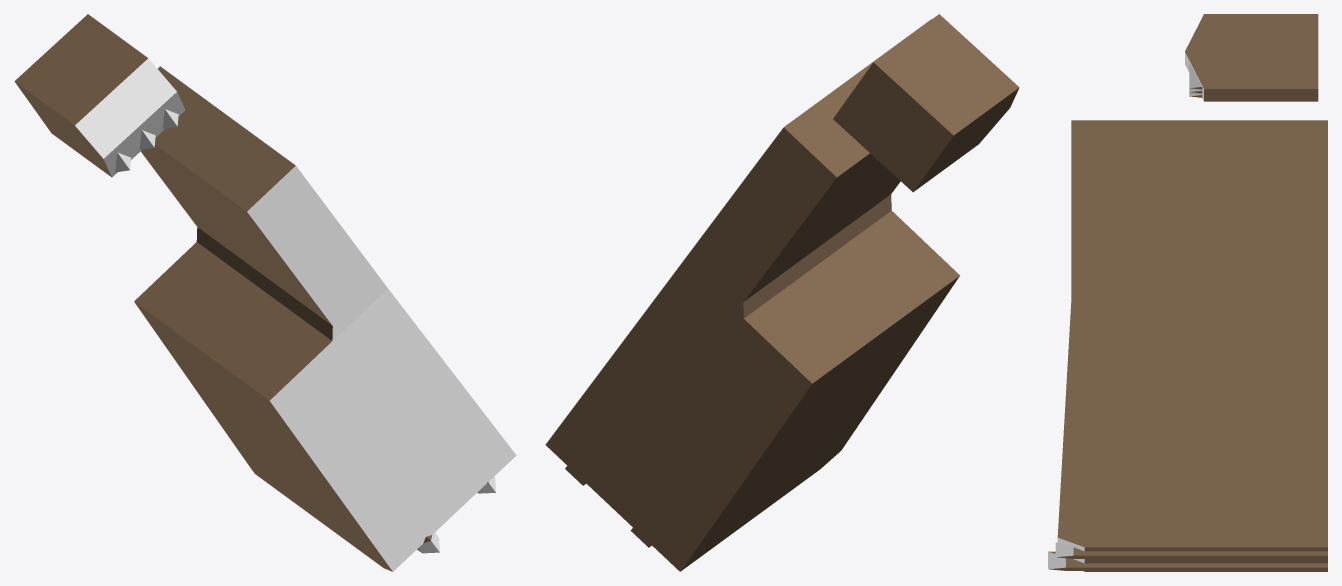
3 views of the same model, side by side, from view 1: azimuth 30°, elevation 25°; view 2: azimuth 150°, elevation 25°; view 3: azimuth 270°, elevation 25° (orthographic). The views are drawn at different scales.
Visible parts, largest first — view 1: City_PC-08693; view 2: City_PC-08693; view 3: City_PC-08693.
Boxes of the visible parts, <box> form: City_PC-08693: <box>14,14,516,571</box>; City_PC-08693: <box>545,14,1019,571</box>; City_PC-08693: <box>1048,14,1327,571</box>.
Size of the model in its own units: 2078 by 2718 by 1441.
